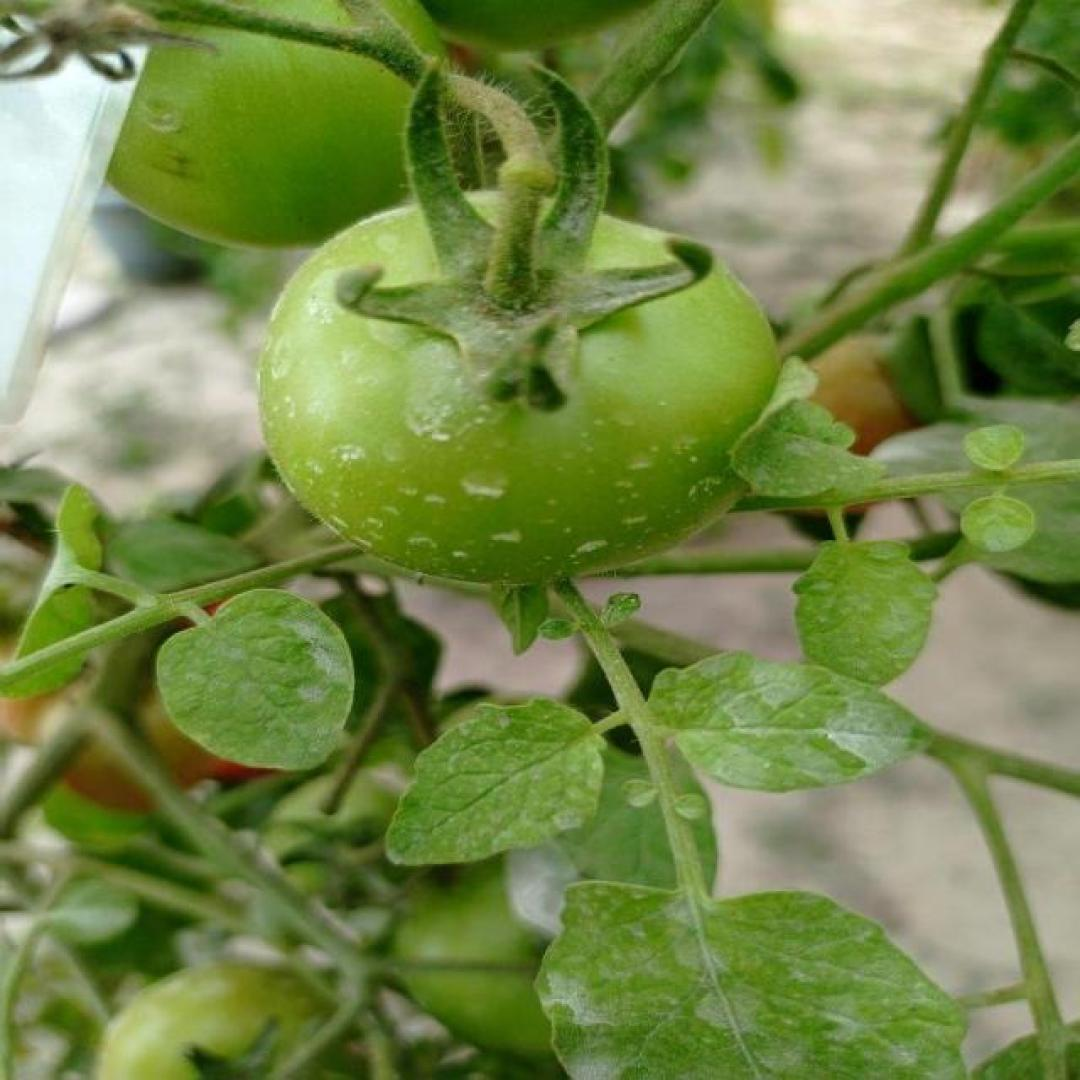mentah: (250, 191, 784, 587)
